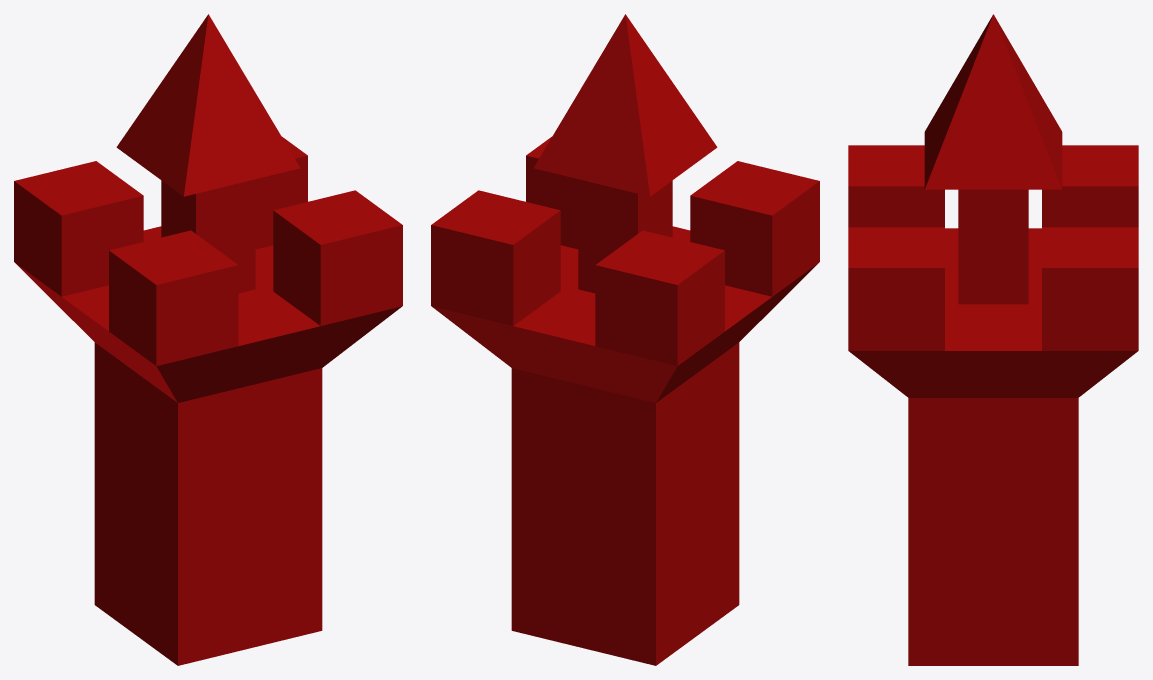
Rendered from red_tower.FBX.
3 views of the same model, side by side, from view 1: azimuth 30°, elevation 25°; view 2: azimuth 150°, elevation 25°; view 3: azimuth 270°, elevation 25° (orthographic). The views are drawn at different scales.
Visible parts, largest first — view 1: Box002; view 2: Box002; view 3: Box002.
Part boxes in pixels (x1,y1,x2,y2): Box002: [14, 14, 402, 665]; Box002: [431, 14, 819, 665]; Box002: [848, 14, 1138, 665].
Size of the model in its own units: 1.71 by 4 by 1.71.
